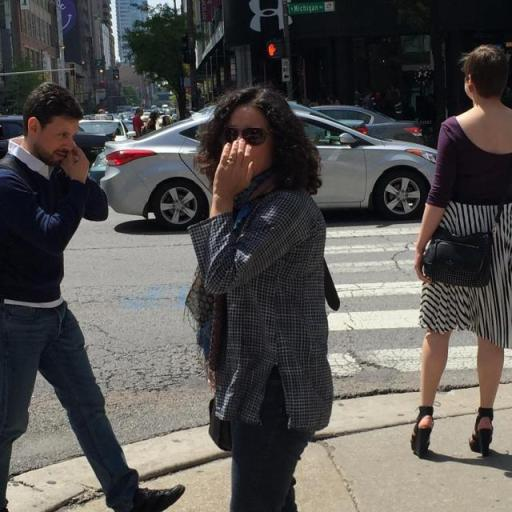Under Armour: (246, 0, 282, 33)
